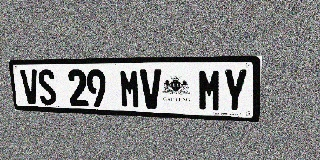2: (67, 69, 88, 107)
9: (86, 69, 107, 107)
M: (198, 69, 222, 112), (119, 69, 141, 109)
S: (37, 70, 57, 105)
V: (140, 69, 162, 109), (20, 70, 40, 105)
Y: (222, 69, 248, 113)
